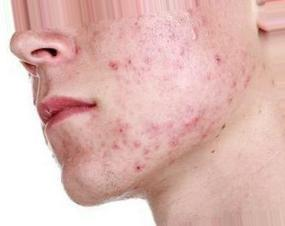Acne: (139, 104, 192, 169), (102, 115, 143, 156), (96, 56, 139, 81)
